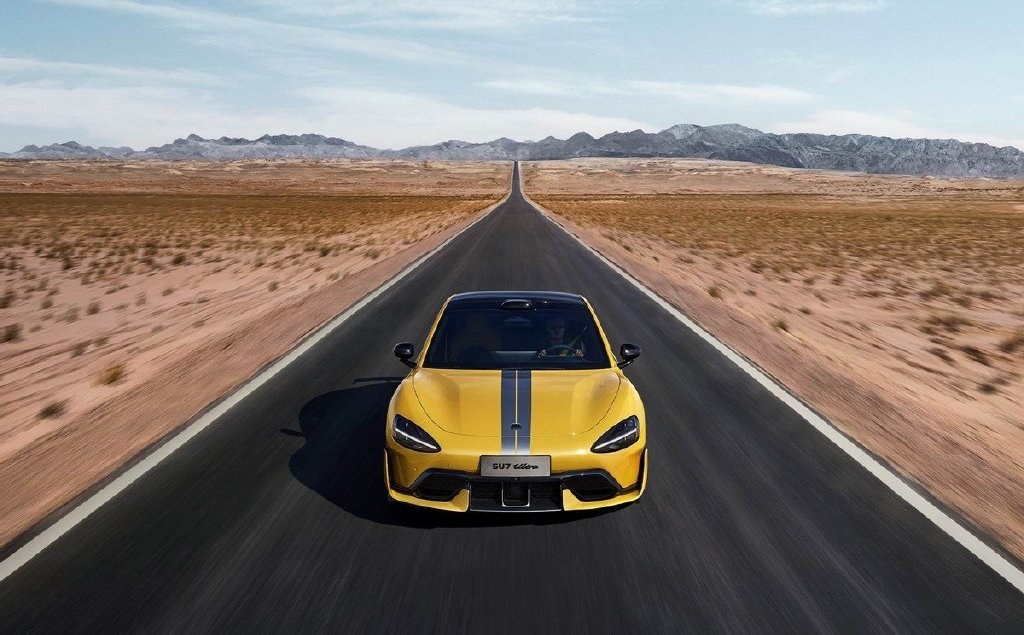su7: (372, 277, 651, 514)
